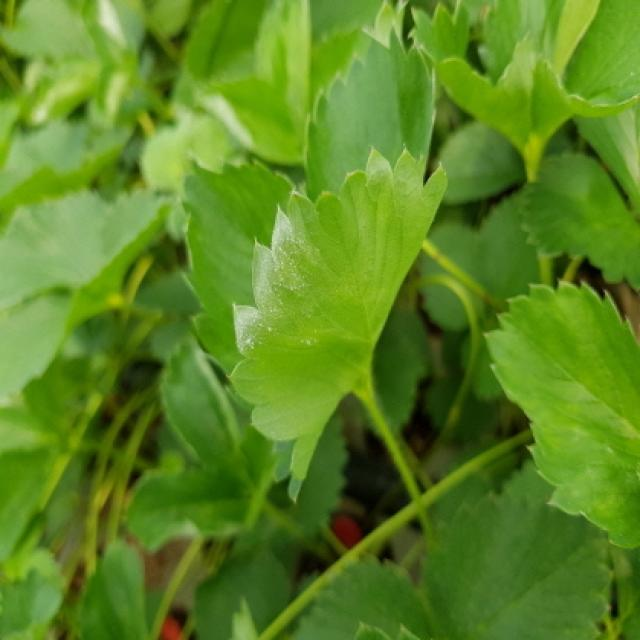Powdery Mildew Leaf: (224, 146, 448, 506)
